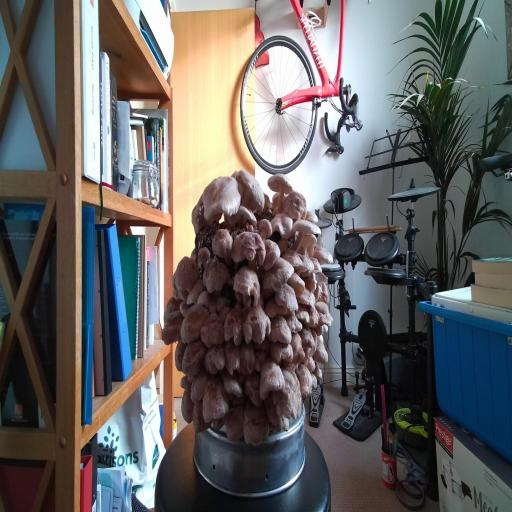Shiitake Mushroom: (217, 163, 279, 218), (251, 246, 304, 304), (172, 292, 215, 355), (198, 168, 244, 226), (162, 247, 210, 302), (277, 207, 330, 255), (253, 390, 298, 445), (174, 330, 214, 386), (262, 162, 300, 217), (271, 365, 304, 421), (253, 352, 288, 402), (240, 398, 273, 451), (229, 229, 269, 266), (200, 254, 232, 300), (184, 397, 215, 441), (232, 335, 264, 377), (199, 338, 230, 380), (292, 226, 324, 266), (241, 304, 271, 346), (281, 185, 311, 226), (202, 378, 229, 423), (233, 265, 261, 308), (184, 194, 213, 235), (305, 335, 335, 373), (221, 304, 247, 347), (297, 264, 333, 295), (209, 223, 236, 264), (155, 290, 190, 321), (186, 365, 211, 408), (277, 242, 310, 274), (198, 311, 225, 350), (175, 385, 200, 427), (293, 358, 317, 401), (159, 308, 186, 346), (182, 274, 209, 311), (282, 267, 312, 300), (279, 307, 308, 340), (269, 207, 296, 241), (307, 242, 339, 269), (291, 284, 322, 311), (190, 241, 215, 273), (225, 403, 244, 443), (275, 281, 299, 312), (269, 314, 293, 345), (268, 339, 296, 365), (224, 205, 257, 227), (291, 301, 316, 330), (243, 371, 262, 409), (288, 330, 307, 367), (224, 339, 241, 376), (263, 238, 281, 272), (171, 338, 188, 373), (222, 372, 243, 398), (209, 291, 232, 314), (295, 253, 315, 279), (256, 214, 274, 242), (265, 298, 288, 318), (215, 300, 234, 324), (315, 301, 333, 326), (309, 362, 328, 385), (305, 256, 327, 275), (303, 354, 320, 376), (313, 282, 329, 304), (300, 326, 315, 349), (176, 373, 193, 393), (308, 305, 320, 328), (260, 191, 271, 216), (197, 289, 210, 308), (304, 209, 321, 223), (309, 371, 319, 391), (271, 190, 280, 208)
